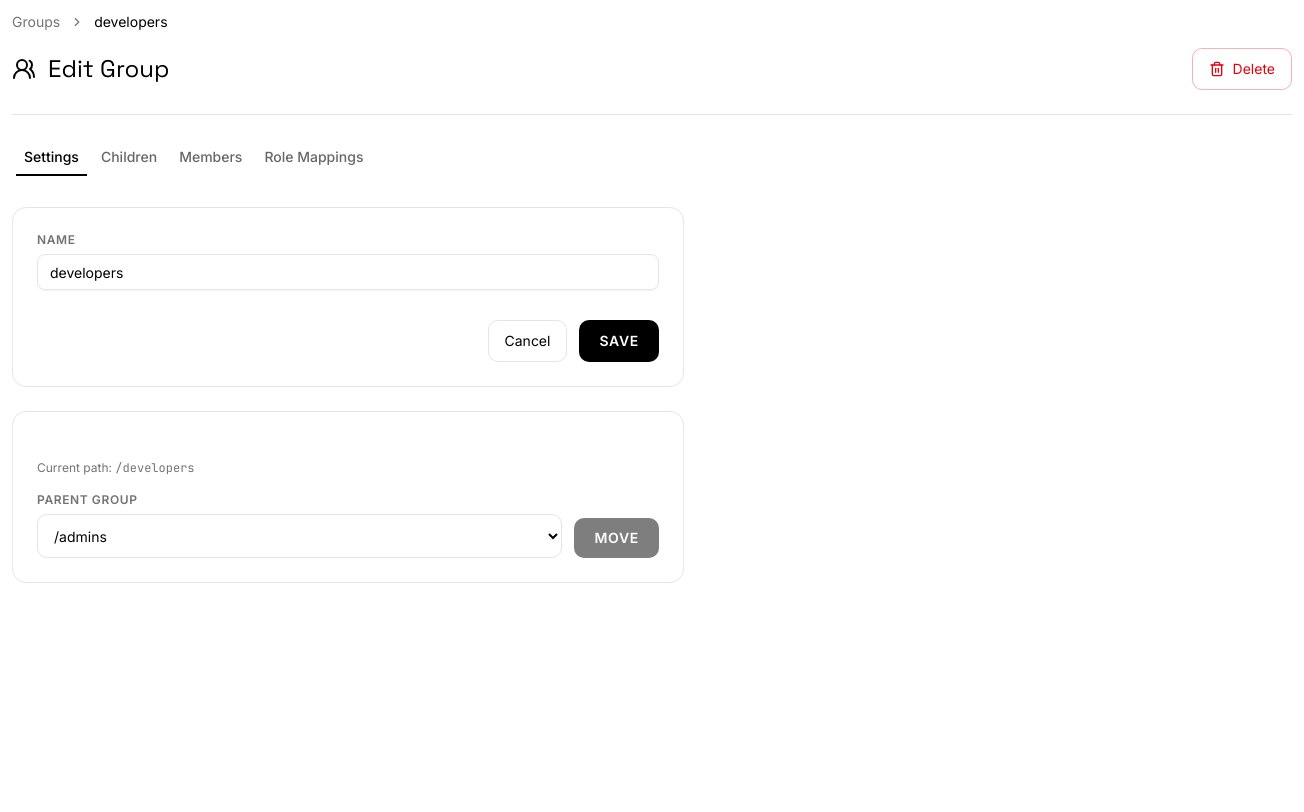
GroupEditPage members › renders the members table
Click the tab "Members". click: x=211, y=157
box: [170,142,251,172]
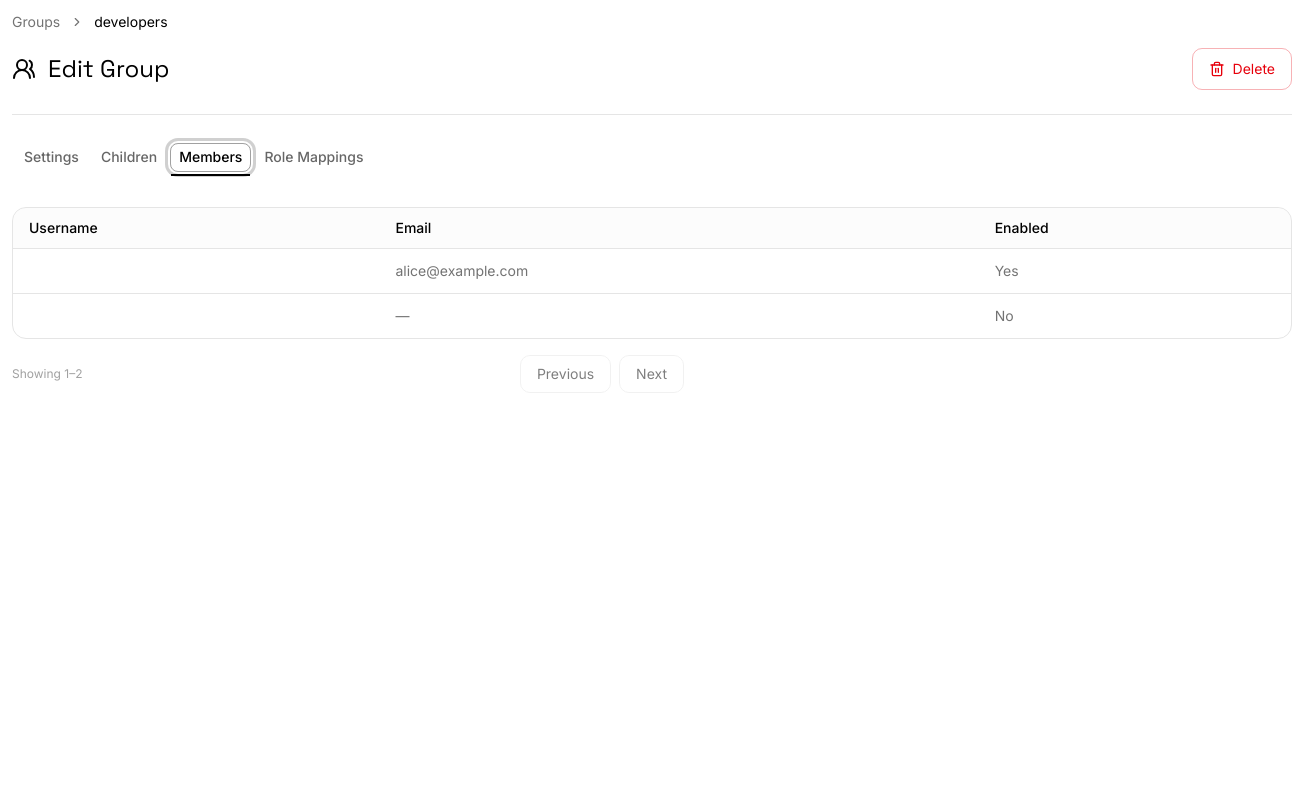
Check: the text "alice@example.com" is shown, box [396,262,528,278]
Check: the text "Showing 1–2" is shown, box [12,366,82,382]
